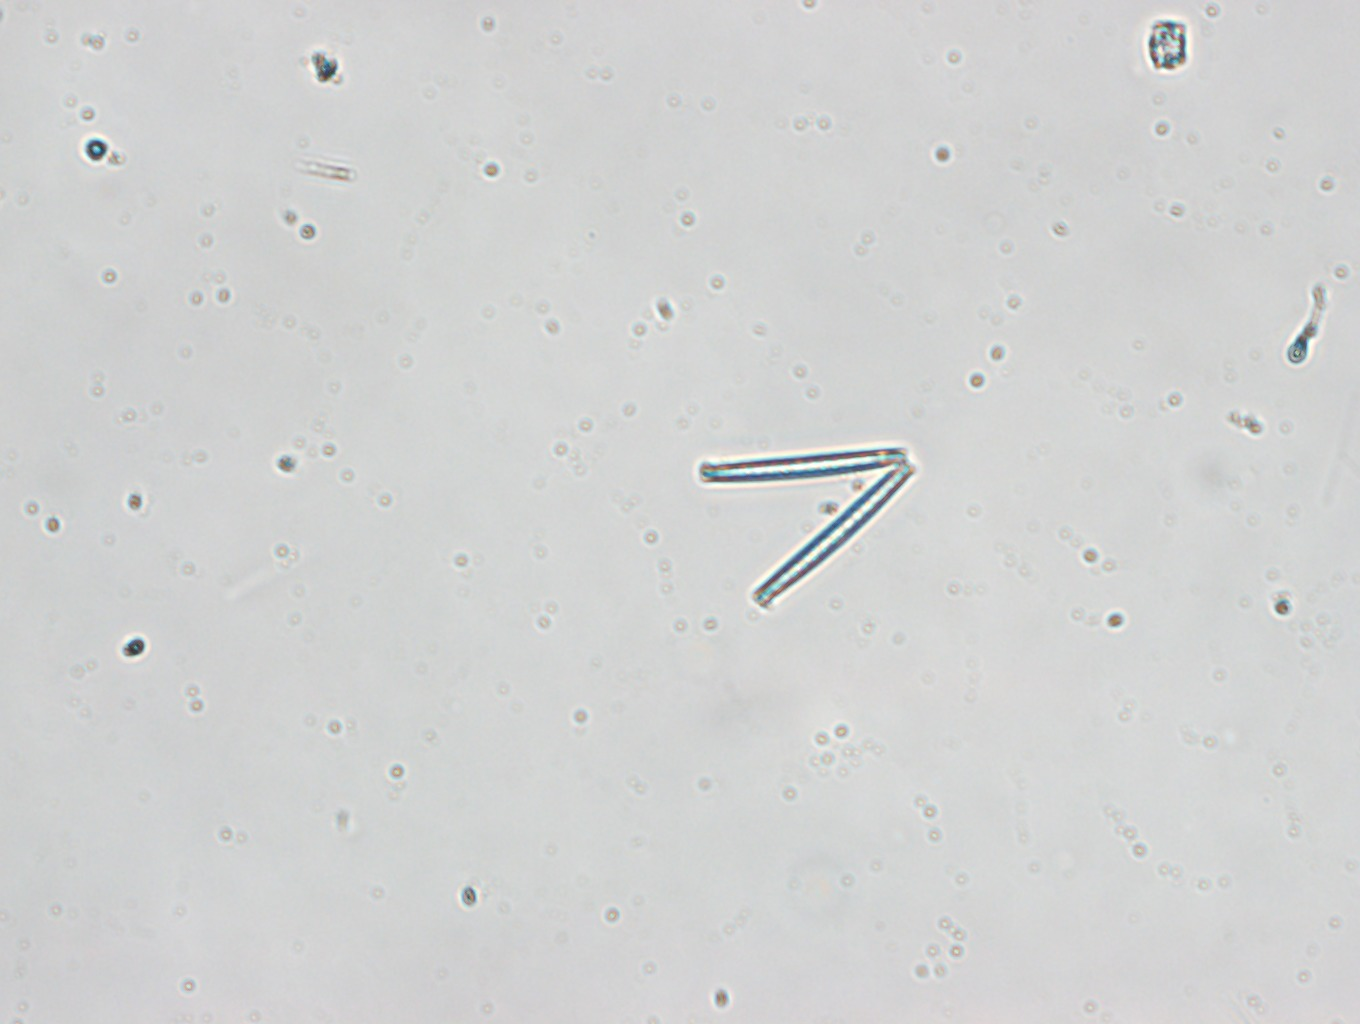thalassionema nitzschioides: (697, 446, 918, 609)
